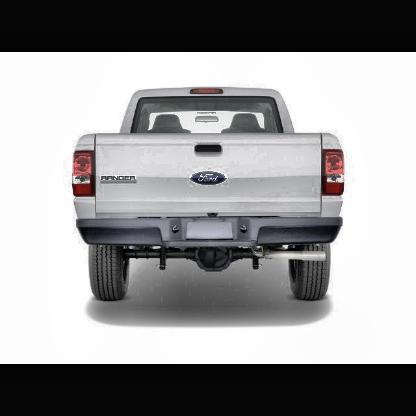Ford Ranger SuperCab 2011: (71, 86, 348, 303)
